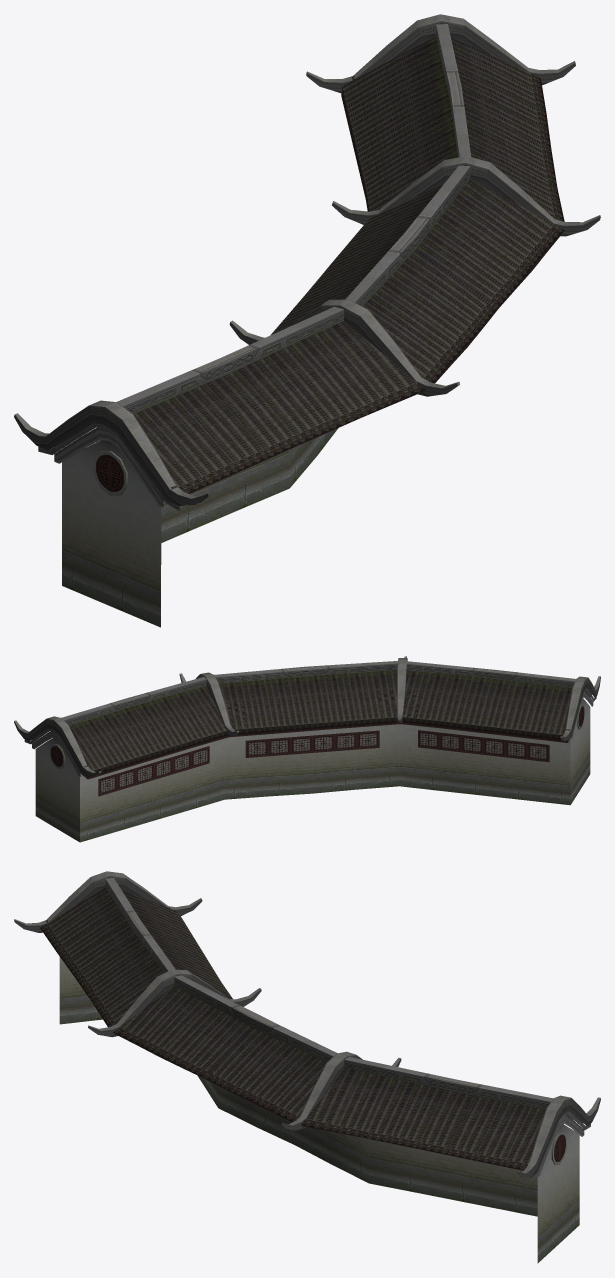
Rendered from zc_suzhou_zhujian04.FBX.
The picture shows the model from 3 angles, top to bottom: view 1: azimuth 30°, elevation 25°; view 2: azimuth 150°, elevation 25°; view 3: azimuth 270°, elevation 25°; orthographic projection. The views are drawn at different scales.
Parts seen in each view (by area): view 1: zc_suzhou_zhujian04; view 2: zc_suzhou_zhujian04; view 3: zc_suzhou_zhujian04.
Part boxes in pixels (box(x1,y1,x2,y2)): zc_suzhou_zhujian04: box(14, 14, 600, 627); zc_suzhou_zhujian04: box(14, 656, 600, 842); zc_suzhou_zhujian04: box(14, 871, 600, 1263).
Bounding box in the file's own units: 2103 × 519 × 1901.
Materials: 1 (1 with a texture image).
